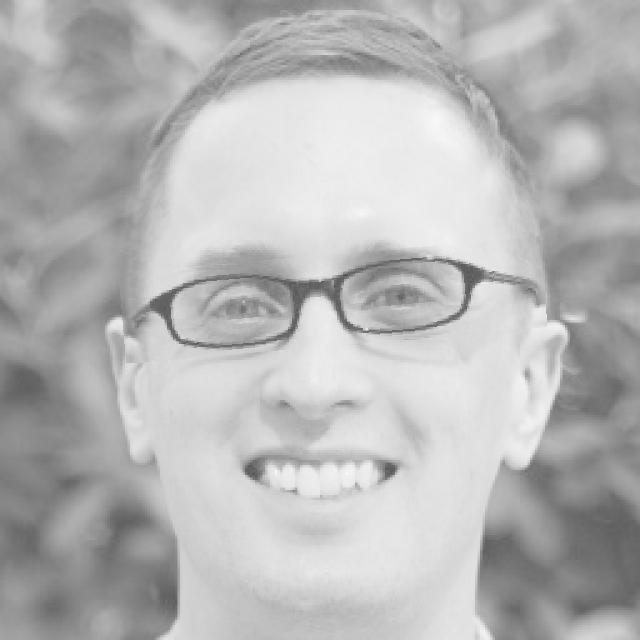glasses: (120, 245, 546, 354)
